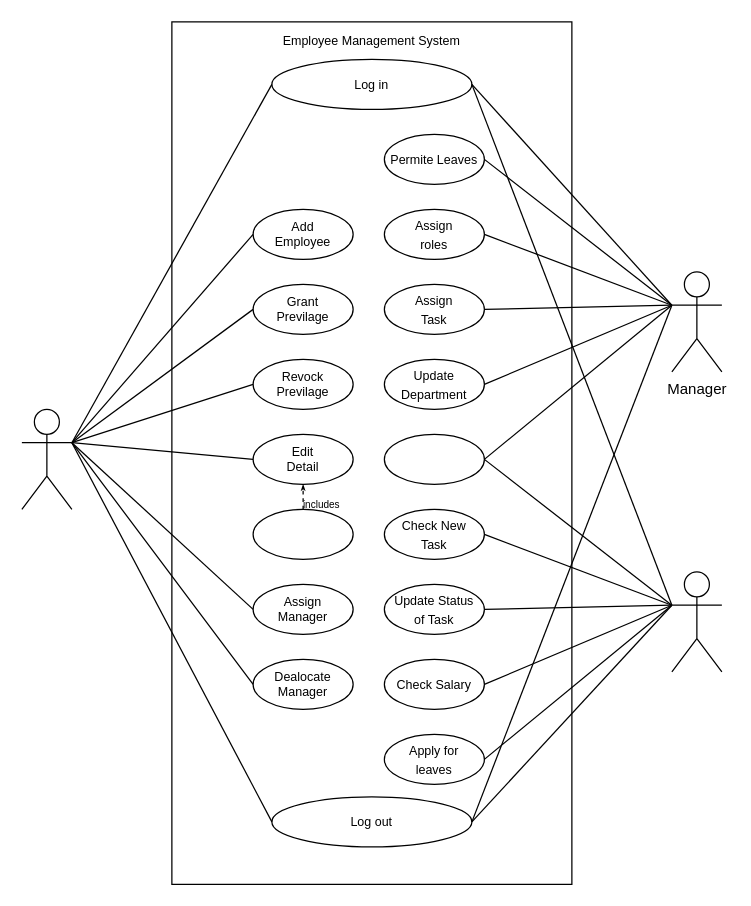
Some shapes in this 751 by 906 pixel diagram are drawn without their labels. Here are the shapes that lost their labels. From the top down, the centre of each, then its label:
the point at 46,458: Admin
the point at 433,458: View Permited leaves
the point at 302,533: Update Employee Salary
the point at 696,621: Employee
